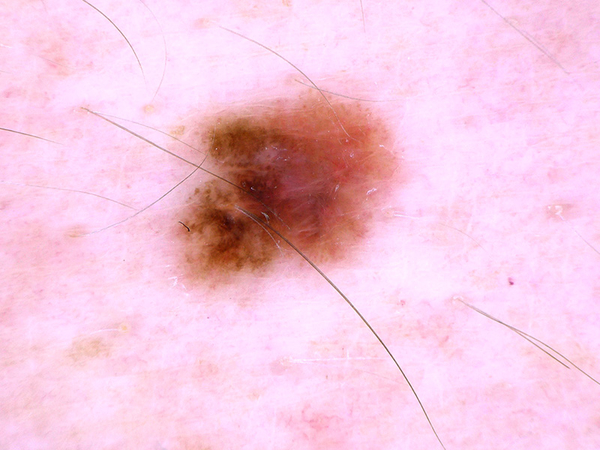Detected Lesion: (160, 88, 405, 287)
